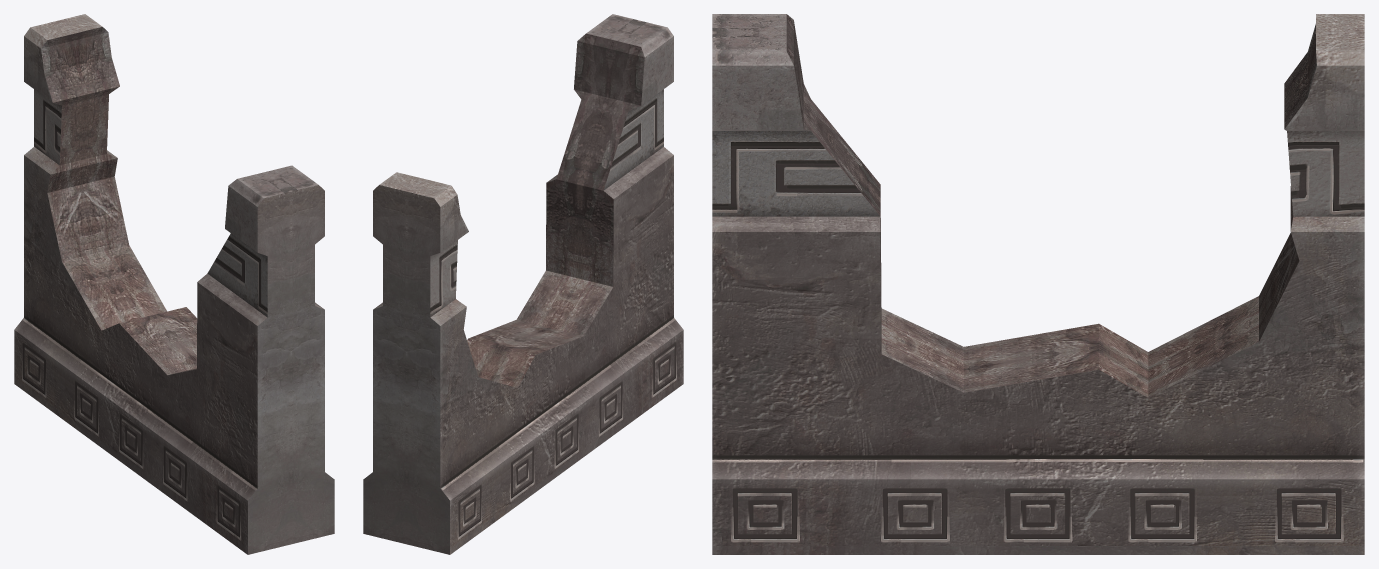
Rendered from StoneWallRuin.fbx.
3 views of the same model, side by side, from view 1: azimuth 30°, elevation 25°; view 2: azimuth 150°, elevation 25°; view 3: azimuth 270°, elevation 25° (orthographic). The views are drawn at different scales.
Parts seen in each view (by area): view 1: Wall_016; view 2: Wall_016; view 3: Wall_016.
Boxes of the visible parts, x1,y1,x2,y2 form: Wall_016: (14, 14, 334, 554); Wall_016: (363, 14, 683, 554); Wall_016: (712, 14, 1364, 554).
Size of the model in its own units: 42.42 by 165 by 198.
